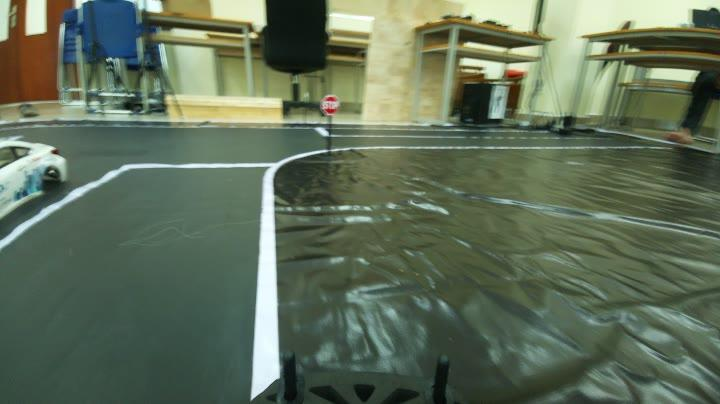stop: (314, 90, 346, 118)
